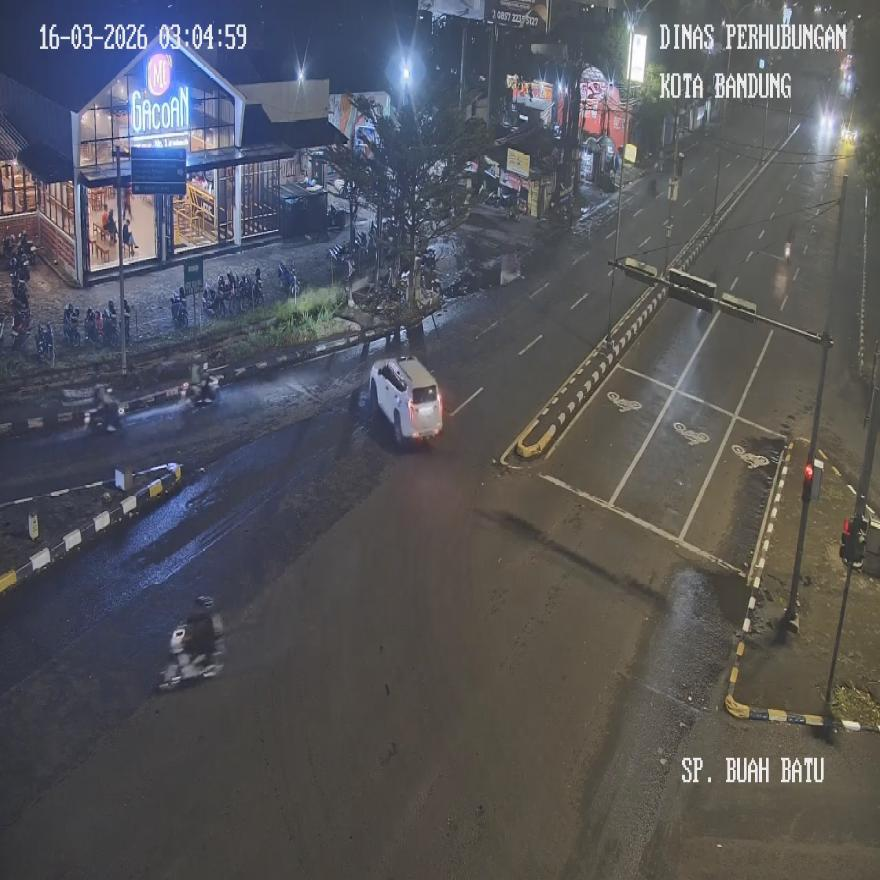Motor: (369, 356, 442, 446)
Truk: (86, 382, 124, 432), (187, 372, 219, 408), (10, 307, 32, 352), (277, 260, 299, 300), (34, 322, 54, 364), (83, 307, 103, 347), (102, 300, 118, 348), (218, 271, 235, 316), (234, 272, 253, 312), (170, 287, 188, 328), (63, 304, 80, 347), (201, 282, 220, 319), (251, 270, 264, 309)
